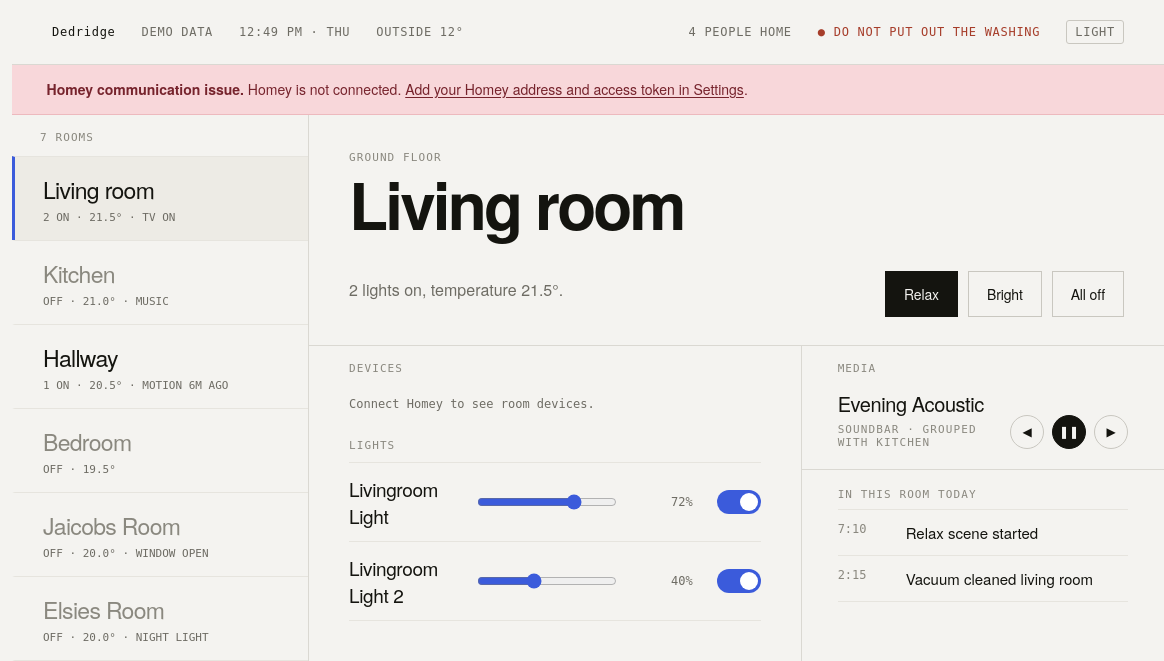
RoomsPage bindings › controls the selected room's configured media player
This screenshot has width=1164, height=661.
Click the button named "Pause": (1069,432) [1052, 415, 1086, 449]
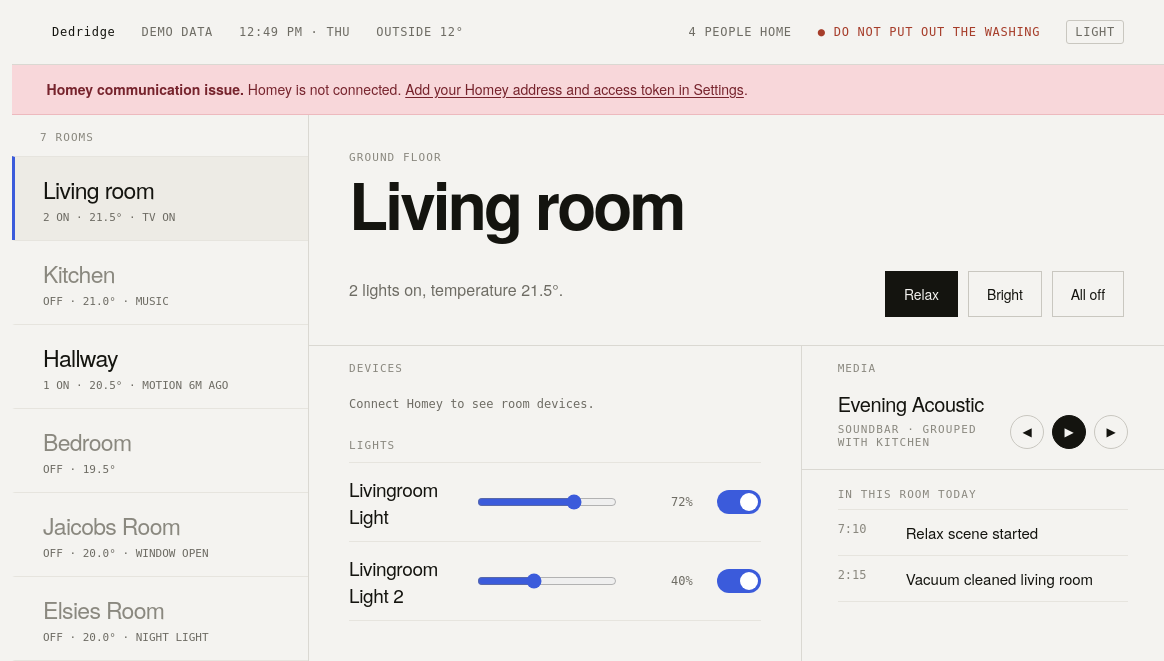
Expected: the button named "Play" reads "▶", [1052, 415, 1086, 449]
